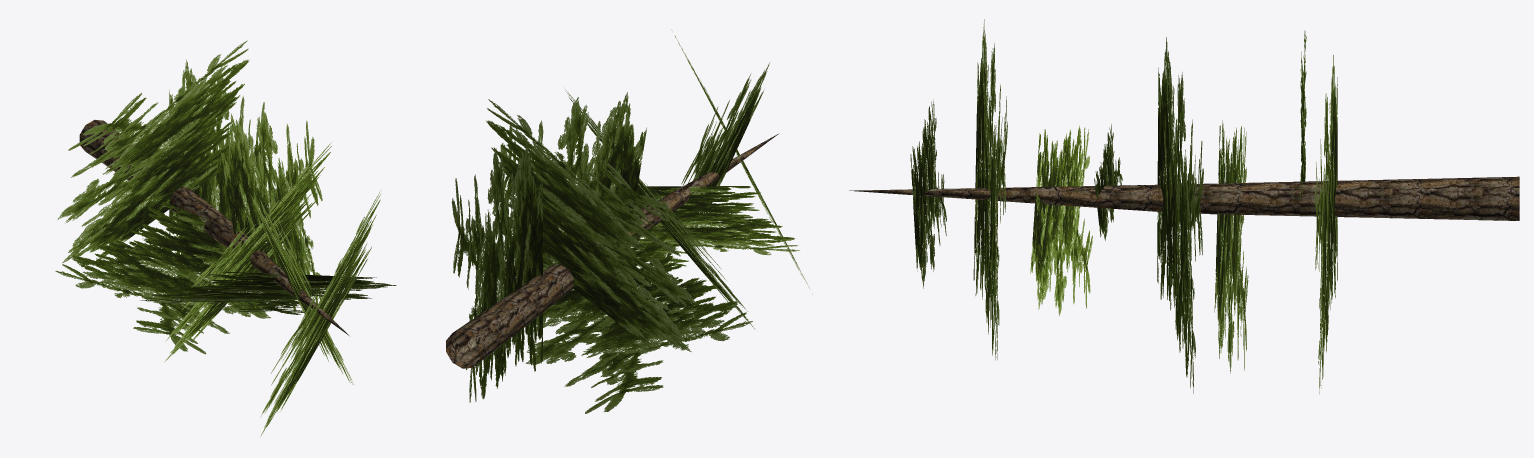
File: pine_bb1.obj
3 views of the same model, side by side, from view 1: azimuth 30°, elevation 25°; view 2: azimuth 150°, elevation 25°; view 3: azimuth 270°, elevation 25° (orthographic). The views are drawn at different scales.
Parts seen in each view (by area): view 1: plant_pmat3, plant_pmat1; view 2: plant_pmat3, plant_pmat1; view 3: plant_pmat3, plant_pmat1.
Part boxes in pixels (x1,y1,x2,y2): plant_pmat3: [55, 40, 396, 436]; plant_pmat1: [79, 120, 349, 335]; plant_pmat3: [451, 29, 812, 413]; plant_pmat1: [446, 133, 779, 368]; plant_pmat3: [910, 19, 1337, 393]; plant_pmat1: [849, 176, 1519, 220].
Size of the model in its own units: 1.78 by 2.02 by 2.85.
